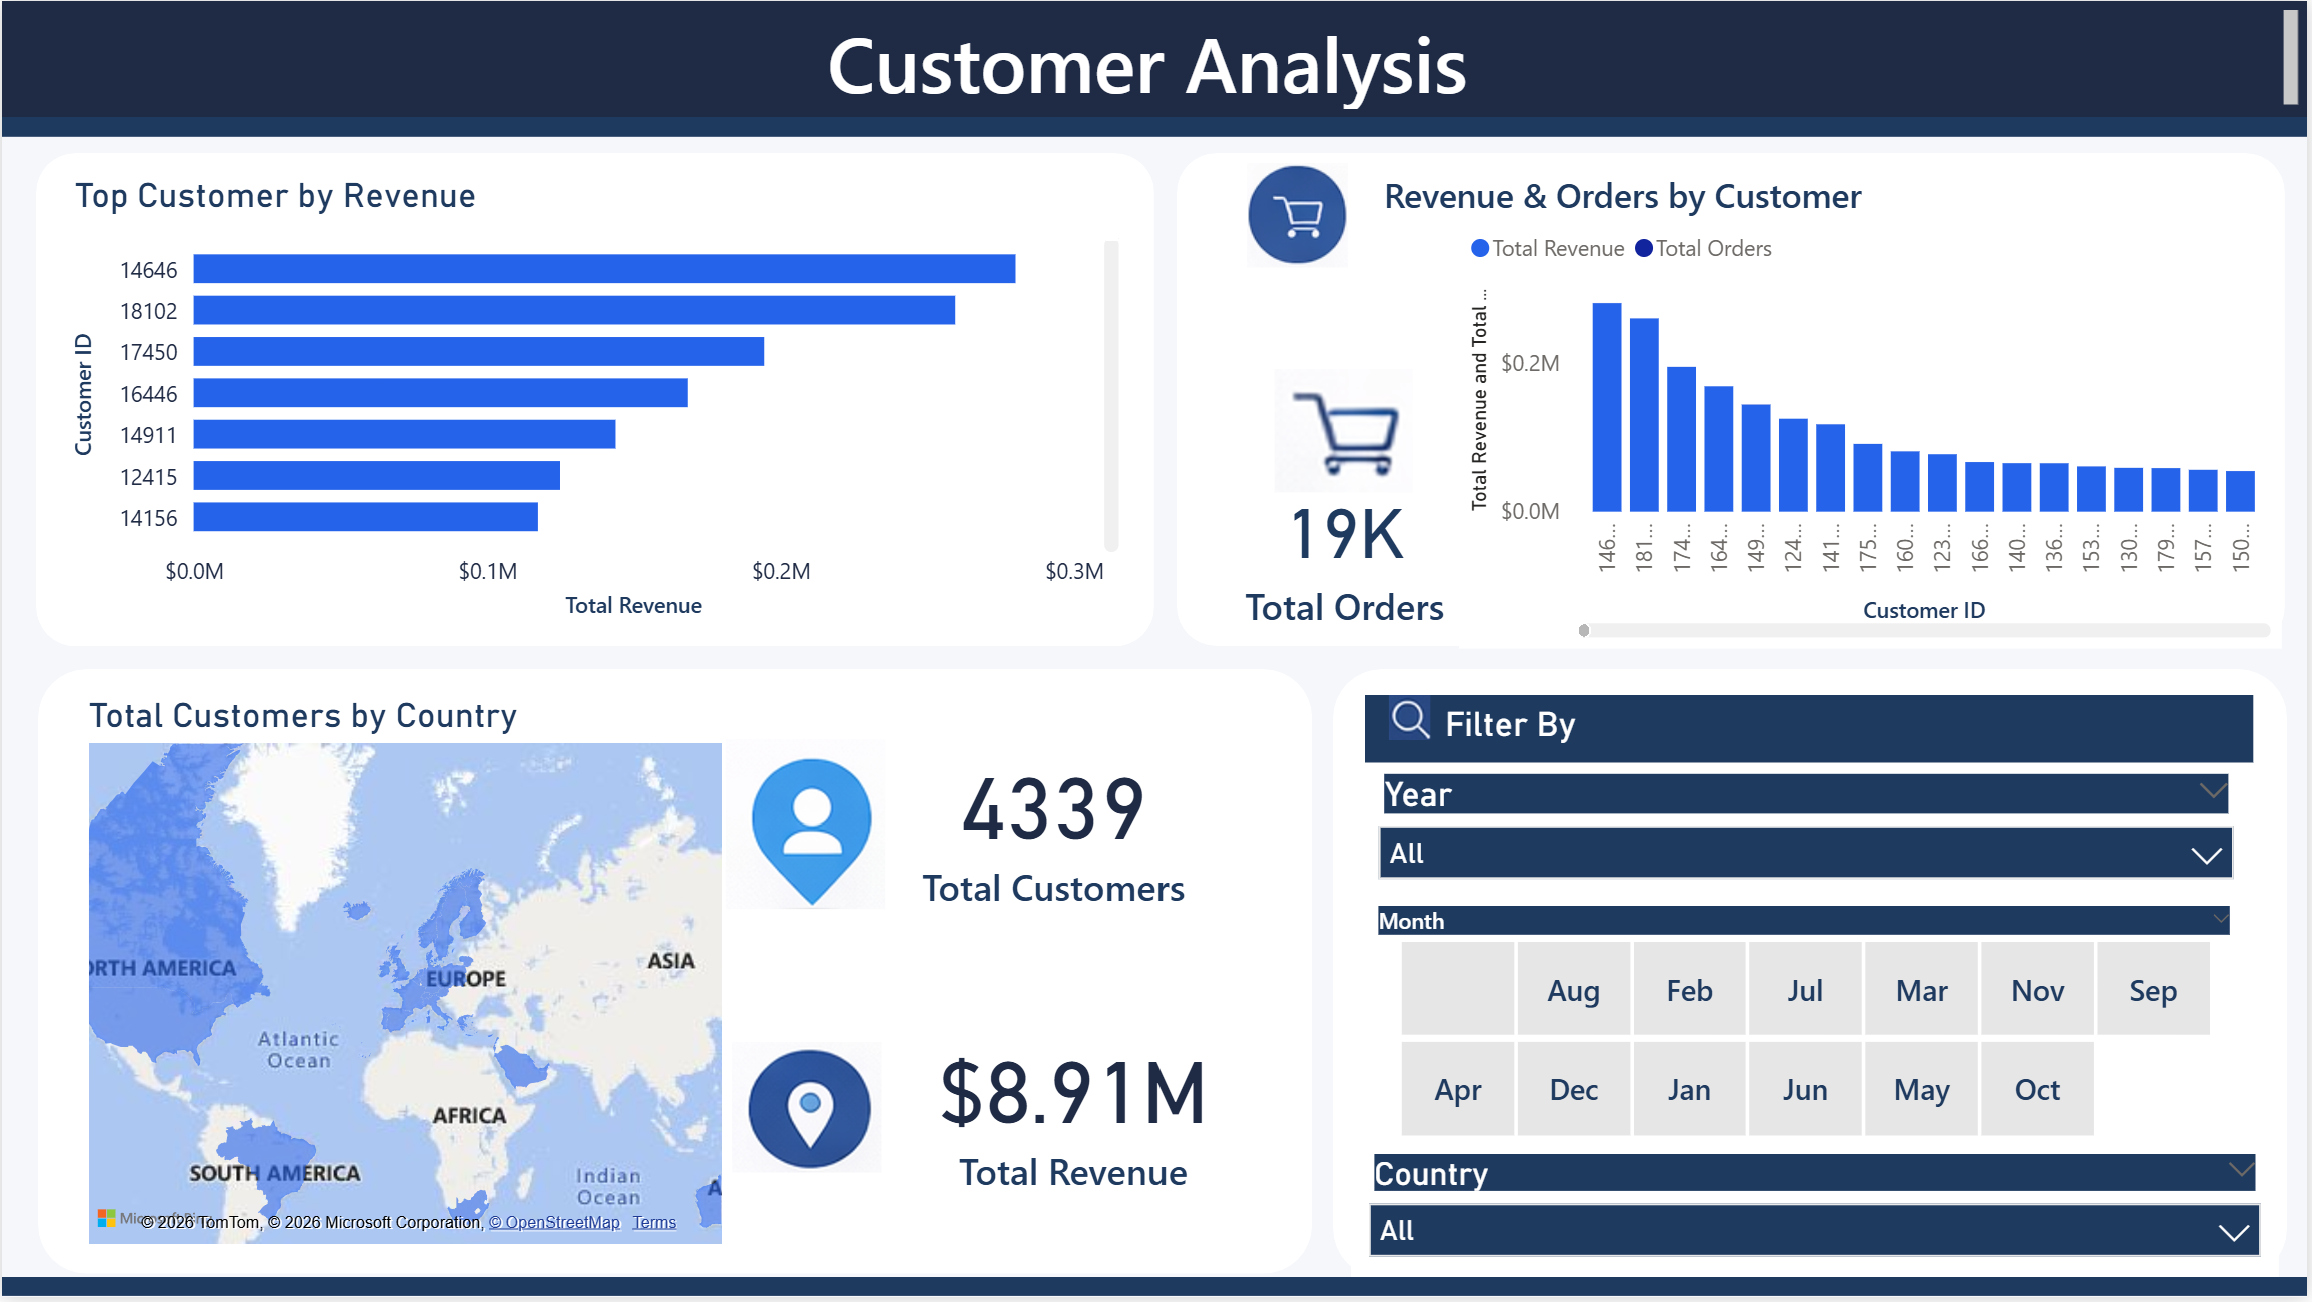

This screenshot's page, from the dashboard's own definition file:
{"tool":"powerbi","page":{"name":"Customer","canvas":[1280,720],"ordinal":2},"visuals":[{"type":"textbox","box":[0,0,1280,64.4],"z":0},{"type":"shape","box":[652.2,84.4,615.6,273.9],"z":0,"group":"g3"},{"type":"shape","box":[738.5,370.9,530.1,338.1],"z":0,"group":"g4"},{"type":"shape","box":[0,64.4,1280,11.1],"z":1000},{"type":"slicer","title":"Year","fields":{"Values":["online_retail.Year"]},"box":[753.1,423.4,496.9,74.5],"z":1000,"group":"g4"},{"type":"group","id":"g1","title":"Group 1","box":[19.7,370.9,707.3,336.4],"z":2000},{"type":"shape","box":[19.7,370.9,707.3,335.9],"z":2000,"group":"g1"},{"type":"textbox","box":[756,385.7,493.7,37.7],"z":2000,"group":"g4"},{"type":"group","id":"g2","title":"Group 2","box":[18.9,84.4,621.1,274.4],"z":3000},{"type":"shape","box":[18.9,84.4,621.1,274.1],"z":3000,"group":"g2"},{"type":"slicer","fields":{"Values":["online_retail.Month"]},"box":[750.9,497.5,498.9,139.5],"z":3000,"group":"g4"},{"type":"group","id":"g3","title":"Group 3","box":[652.2,84.4,615.6,275.6],"z":4000},{"type":"barChart","title":"Top Customer by Revenue","fields":{"Category":["online_retail.Customer ID"],"Y":["online_retail.Total Revenue"]},"box":[34,95,591.9,253.6],"z":4000,"group":"g2"},{"type":"slicer","fields":{"Values":["online_retail.Country"]},"box":[748.4,635.2,515.5,74.5],"z":4000,"group":"g4"},{"type":"group","id":"g4","title":"Group 4","box":[738.5,370.9,530.1,338.8],"z":5000},{"type":"filledMap","fields":{"Category":["online_retail.Country"]},"box":[41.4,384.4,363.6,312.3],"z":5000,"group":"g1"},{"type":"columnChart","fields":{"Y":["online_retail.Total Revenue","online_retail.Total Orders"],"Category":["online_retail.Customer ID"]},"box":[809.3,117.1,457,243],"z":6000,"group":"g3"},{"type":"shape","box":[0,709.3,1280,10.7],"z":6000},{"type":"image","box":[754.7,385.7,53.9,24.9],"z":7000},{"type":"card","fields":{"Values":["online_retail.Total Customers"]},"box":[475.6,386.1,217.1,138.4],"z":10000,"group":"g1"},{"type":"card","fields":{"Values":["online_retail.Total Revenue"]},"box":[475.6,551.5,238.8,123.2],"z":11000,"group":"g1"},{"type":"card","fields":{"Values":["online_retail.Total Orders"]},"box":[680.8,253.4,128.5,104.3],"z":12000,"group":"g3"},{"type":"textbox","box":[761.7,89.8,452.9,38.7],"z":13000,"group":"g3"},{"type":"image","box":[676.6,89.8,85.1,58],"z":14000,"group":"g3"},{"type":"image","box":[699.8,204.3,89.3,68.7],"z":15000,"group":"g3"},{"type":"image","box":[405,568.4,83.2,91.2],"z":16000,"group":"g1"},{"type":"image","box":[396,409.7,99.5,94.5],"z":17000,"group":"g1"}]}

Visuals, with their boxes in screenshot pixels (x1, y1, x2, y2), scaled from the page's 1280x720 canvas onto the 2312x1302 screenshot:
textbox: x1=0 y1=0 x2=2311 y2=116
shape: x1=1178 y1=153 x2=2290 y2=648
shape: x1=1334 y1=671 x2=2291 y2=1282
shape: x1=0 y1=116 x2=2311 y2=137
"Year" slicer: x1=1360 y1=766 x2=2258 y2=900
"Group 1" group: x1=36 y1=671 x2=1313 y2=1279
shape: x1=36 y1=671 x2=1313 y2=1278
textbox: x1=1366 y1=697 x2=2257 y2=766
"Group 2" group: x1=34 y1=153 x2=1156 y2=649
shape: x1=34 y1=153 x2=1156 y2=648
slicer - online_retail.Month: x1=1356 y1=900 x2=2257 y2=1152
"Group 3" group: x1=1178 y1=153 x2=2290 y2=651
"Top Customer by Revenue" barChart: x1=61 y1=172 x2=1131 y2=630
slicer - online_retail.Country: x1=1352 y1=1149 x2=2283 y2=1283
"Group 4" group: x1=1334 y1=671 x2=2291 y2=1283
filledMap - online_retail.Country: x1=75 y1=695 x2=732 y2=1260
columnChart - online_retail.Total Revenue x online_retail.Total Orders: x1=1462 y1=212 x2=2287 y2=651
shape: x1=0 y1=1283 x2=2311 y2=1301
image: x1=1363 y1=697 x2=1461 y2=743
card - online_retail.Total Customers: x1=859 y1=698 x2=1251 y2=948
card - online_retail.Total Revenue: x1=859 y1=997 x2=1290 y2=1220
card - online_retail.Total Orders: x1=1230 y1=458 x2=1462 y2=647
textbox: x1=1376 y1=162 x2=2194 y2=232
image: x1=1222 y1=162 x2=1376 y2=267
image: x1=1264 y1=369 x2=1425 y2=494
image: x1=732 y1=1028 x2=882 y2=1193
image: x1=715 y1=741 x2=895 y2=912
